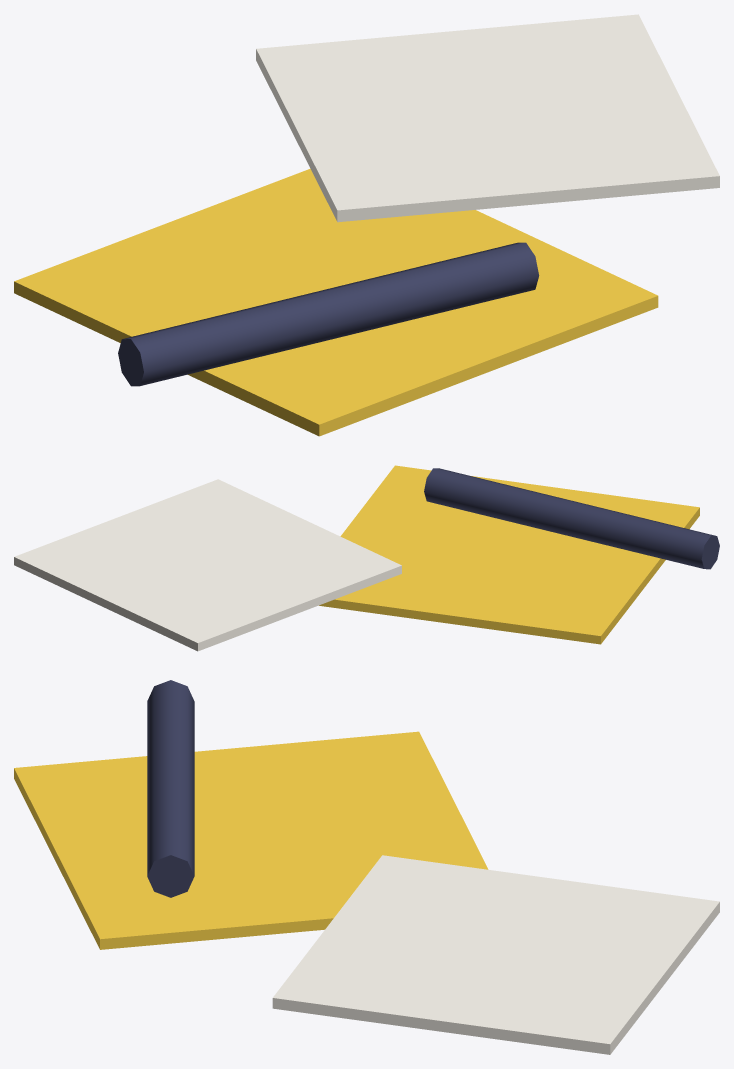
The model's file is station_processing_ausstattung_2_0.glb.
3 views of the same model, one above another, from view 1: azimuth 30°, elevation 25°; view 2: azimuth 150°, elevation 25°; view 3: azimuth 270°, elevation 25° (orthographic). The views are drawn at different scales.
Visible parts, largest first — view 1: station_processing_ausstattung_2_0; view 2: station_processing_ausstattung_2_0; view 3: station_processing_ausstattung_2_0.
Part boxes in pixels (box(x1,y1,x2,y2)): station_processing_ausstattung_2_0: box(14, 14, 719, 436); station_processing_ausstattung_2_0: box(14, 465, 719, 651); station_processing_ausstattung_2_0: box(14, 680, 719, 1054).
Bounding box in the file's own units: 0.2656 × 0.02 × 0.2386.
